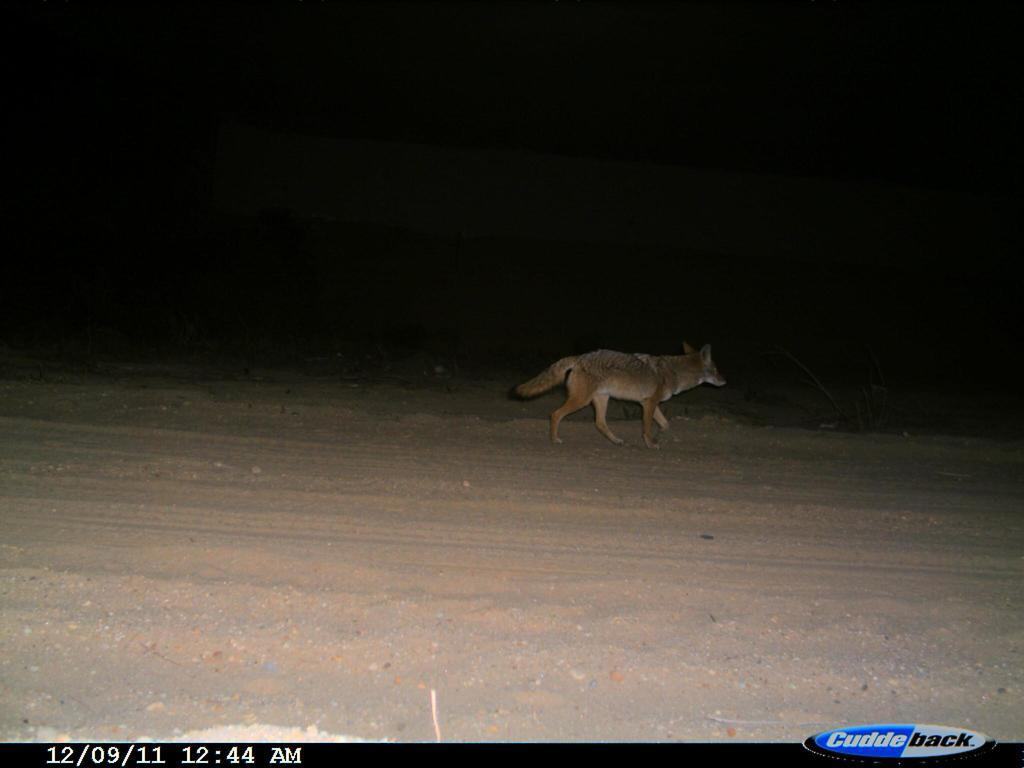coyote: (500, 306, 737, 465)
